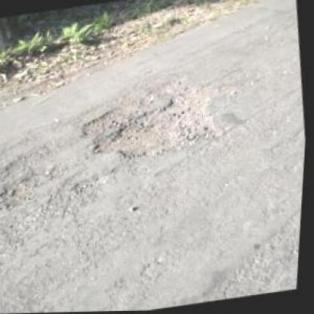Hueco: (75, 71, 251, 169)
